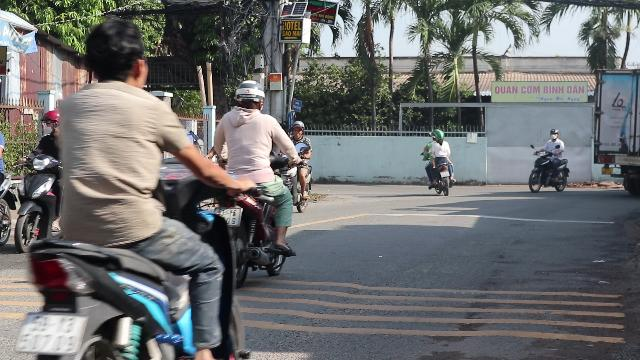helmet: (232, 80, 266, 112)
licenseplate: (17, 312, 84, 352)
motorcyclist: (15, 14, 255, 358), (209, 78, 299, 284)
nohelmet: (81, 19, 149, 89)
